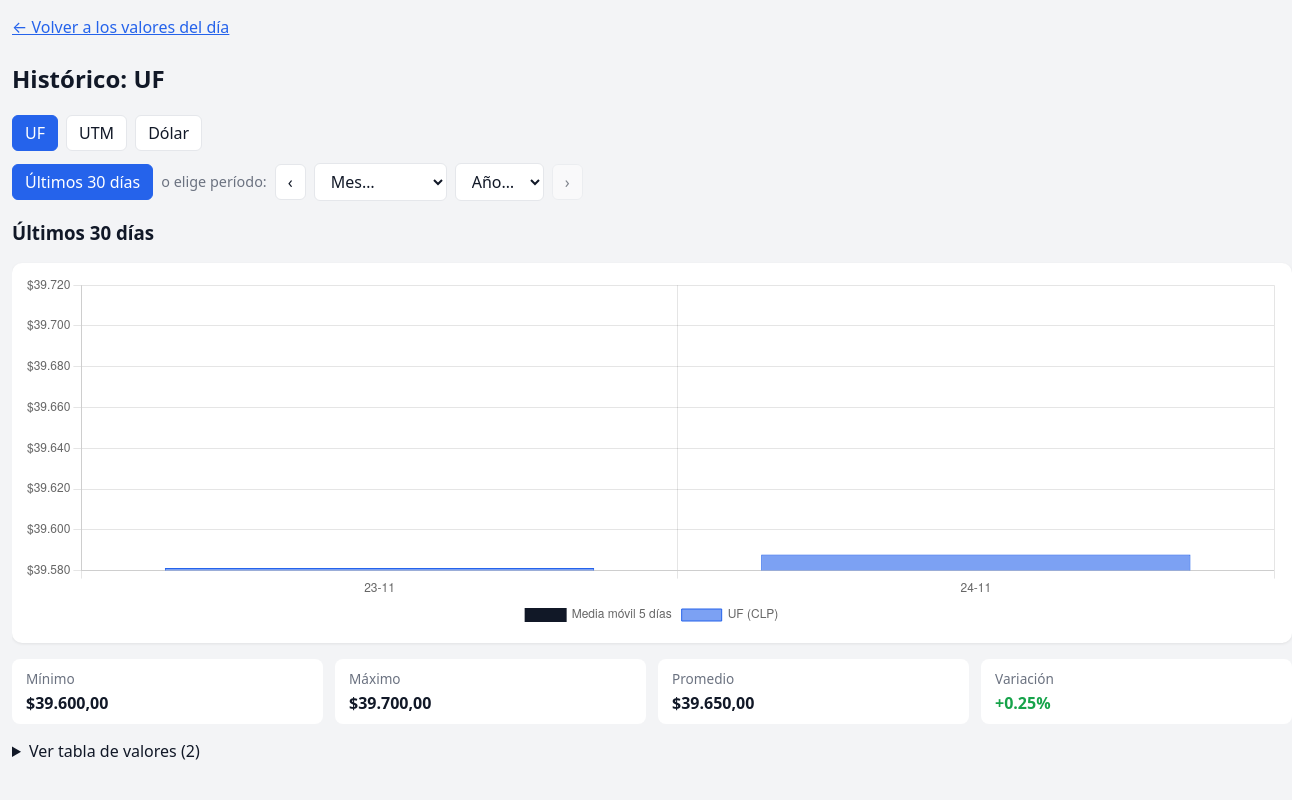
Scenario: HistoricoPage › desde "Últimos 30 días" permite elegir directamente el mes actual
Expected: the picture named "Gráfico de UF" is shown, [12,263,1291,643]
Select "Noviembre" in the dropdown named "Mes" at (380, 182), box [314,163,447,201]
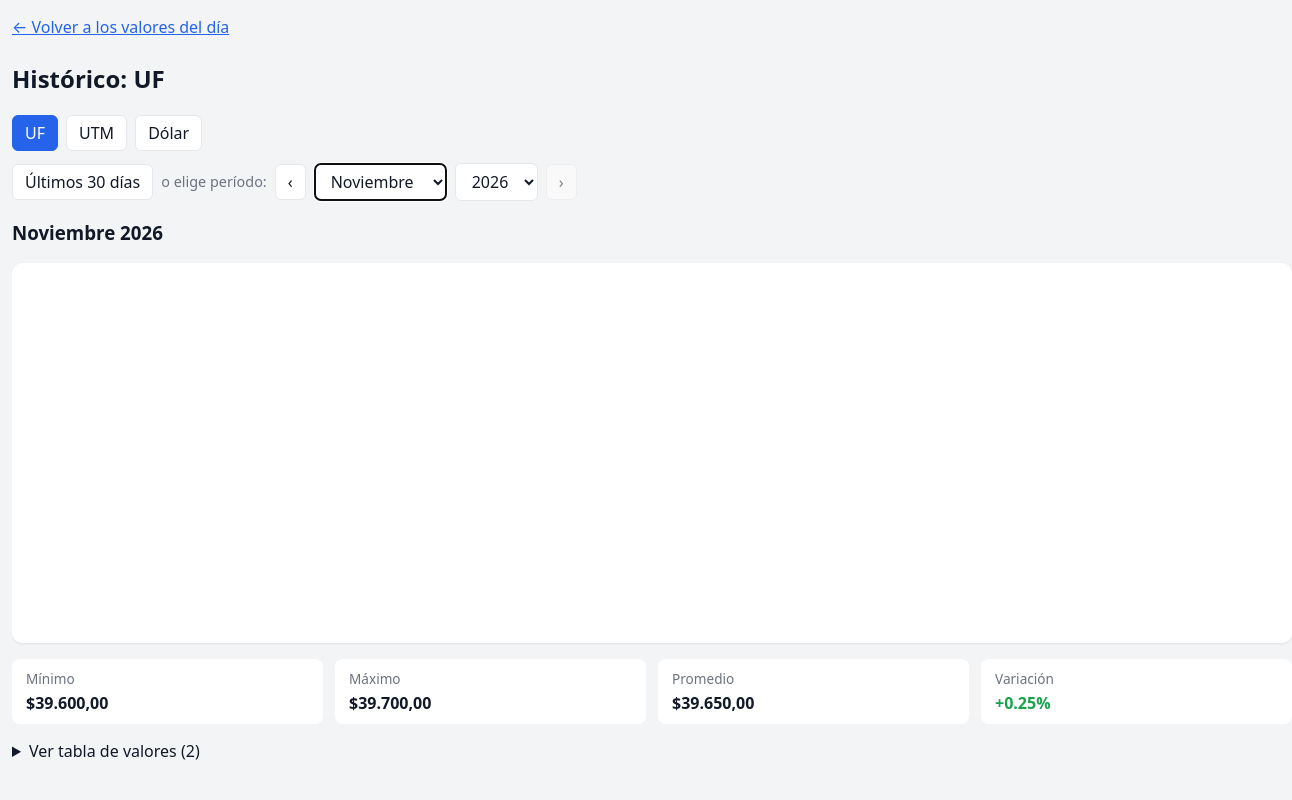
Result: the heading "Noviembre 2026" is shown at [12,220,163,245]
